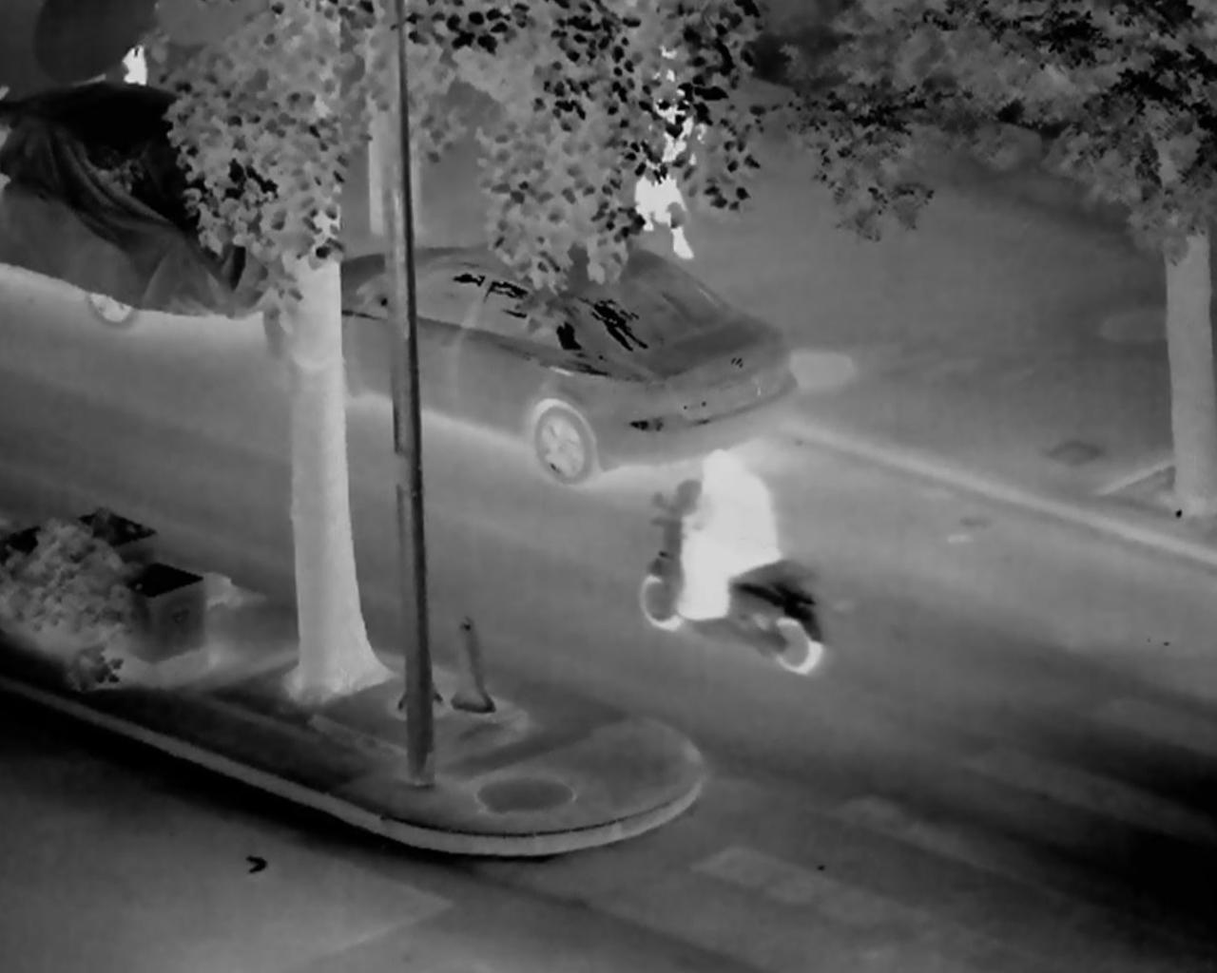person: (683, 425, 782, 647), (611, 55, 691, 242)
